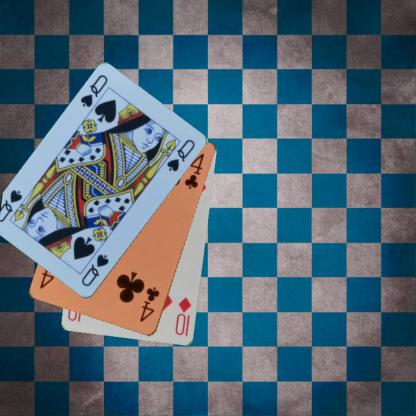10d: (173, 294, 193, 338)
4c: (137, 284, 161, 324)
Qs: (78, 72, 110, 109), (78, 252, 110, 288)
